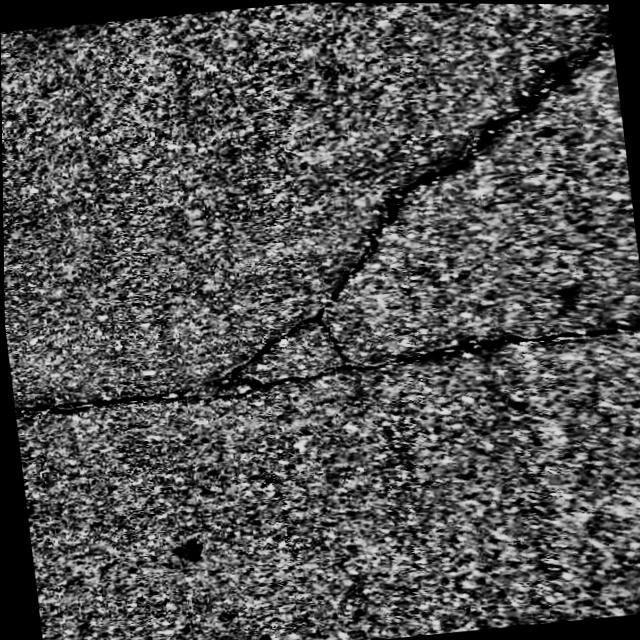cracks: (250, 56, 594, 362), (14, 323, 640, 422)
